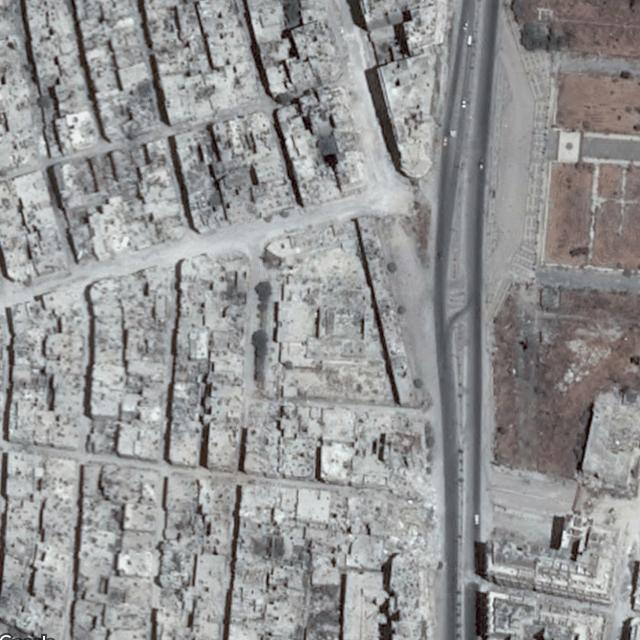damaged_building: (261, 217, 396, 404), (342, 409, 441, 626)
